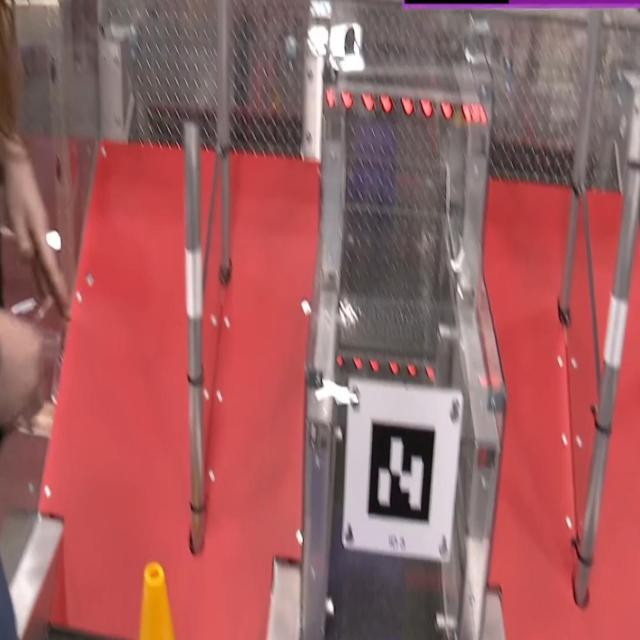frc_cone: (122, 553, 181, 640)
